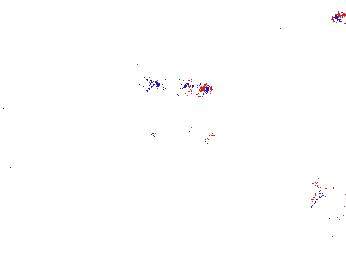red belly glassfish: (151, 75, 213, 99), (328, 11, 346, 25)
redtail glassfish: (150, 124, 217, 148), (309, 175, 346, 213)
